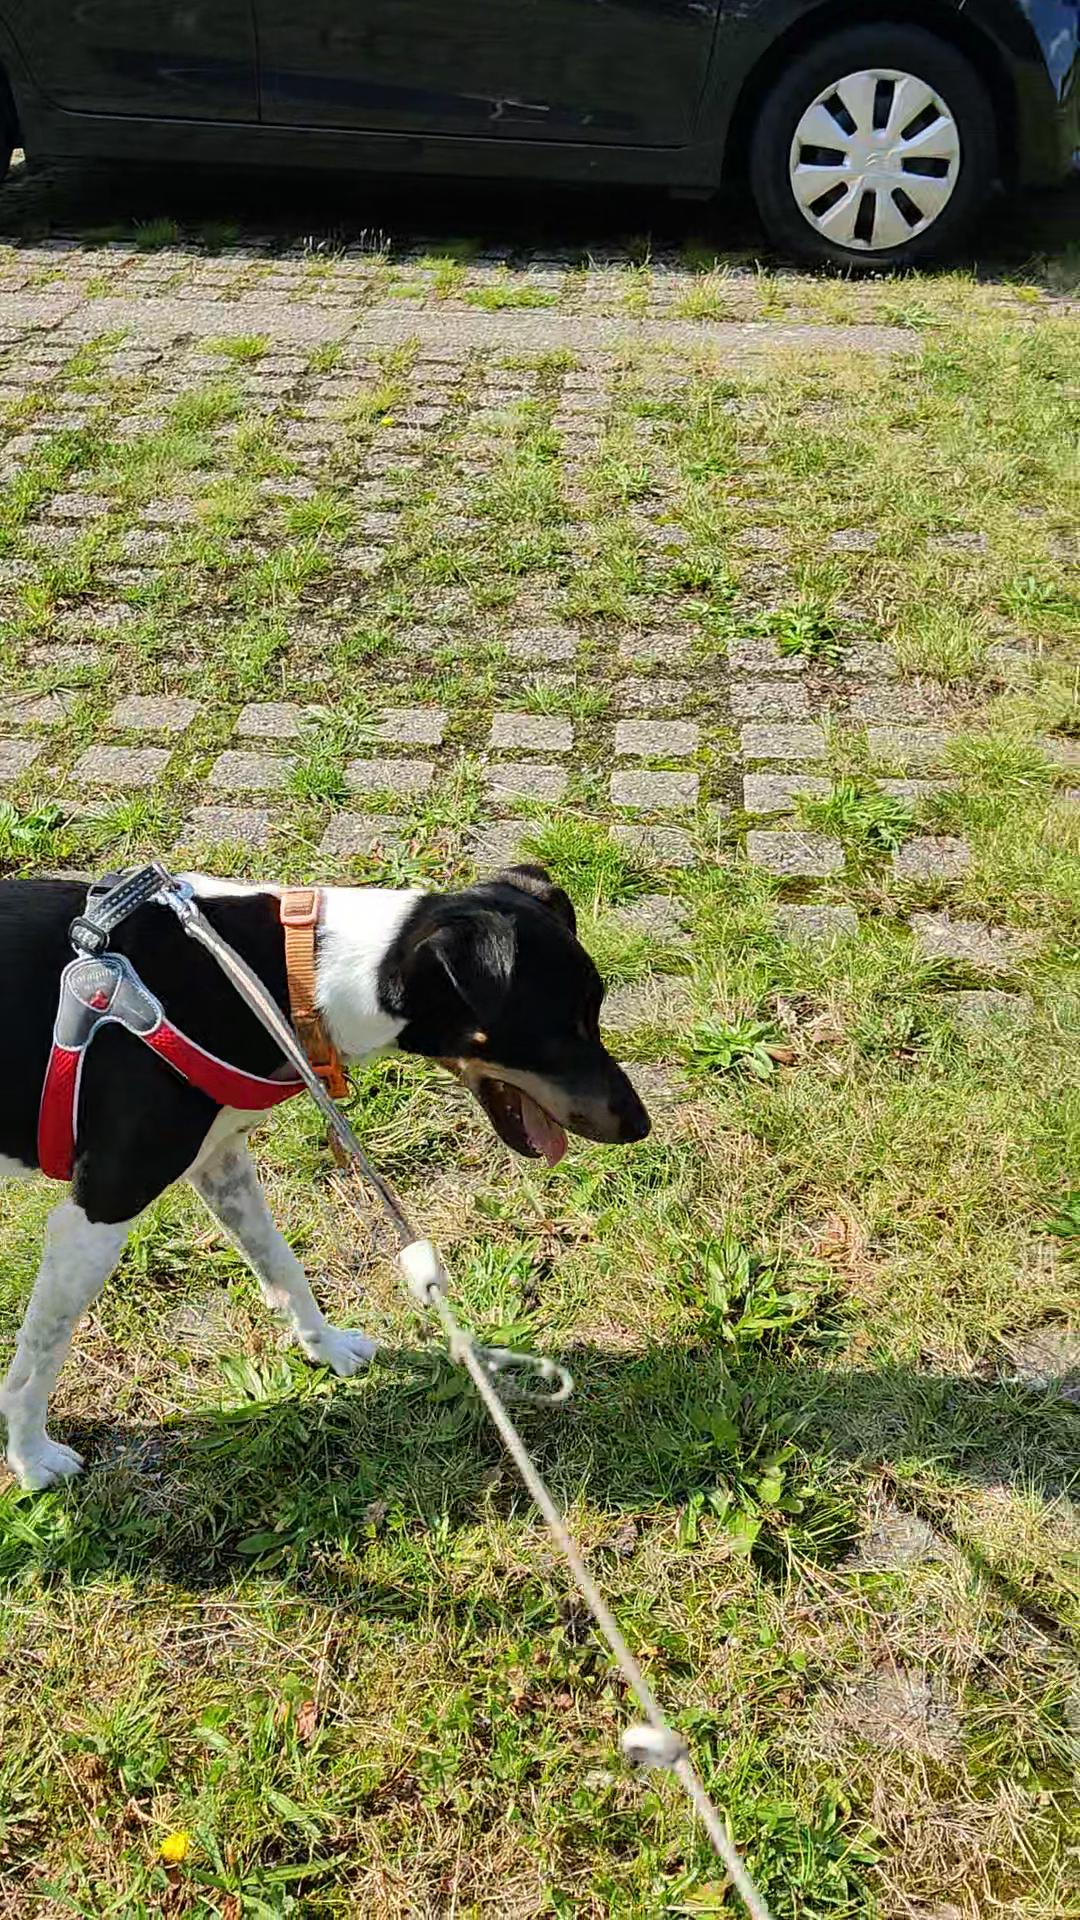Dog: (0, 856, 658, 1501)
